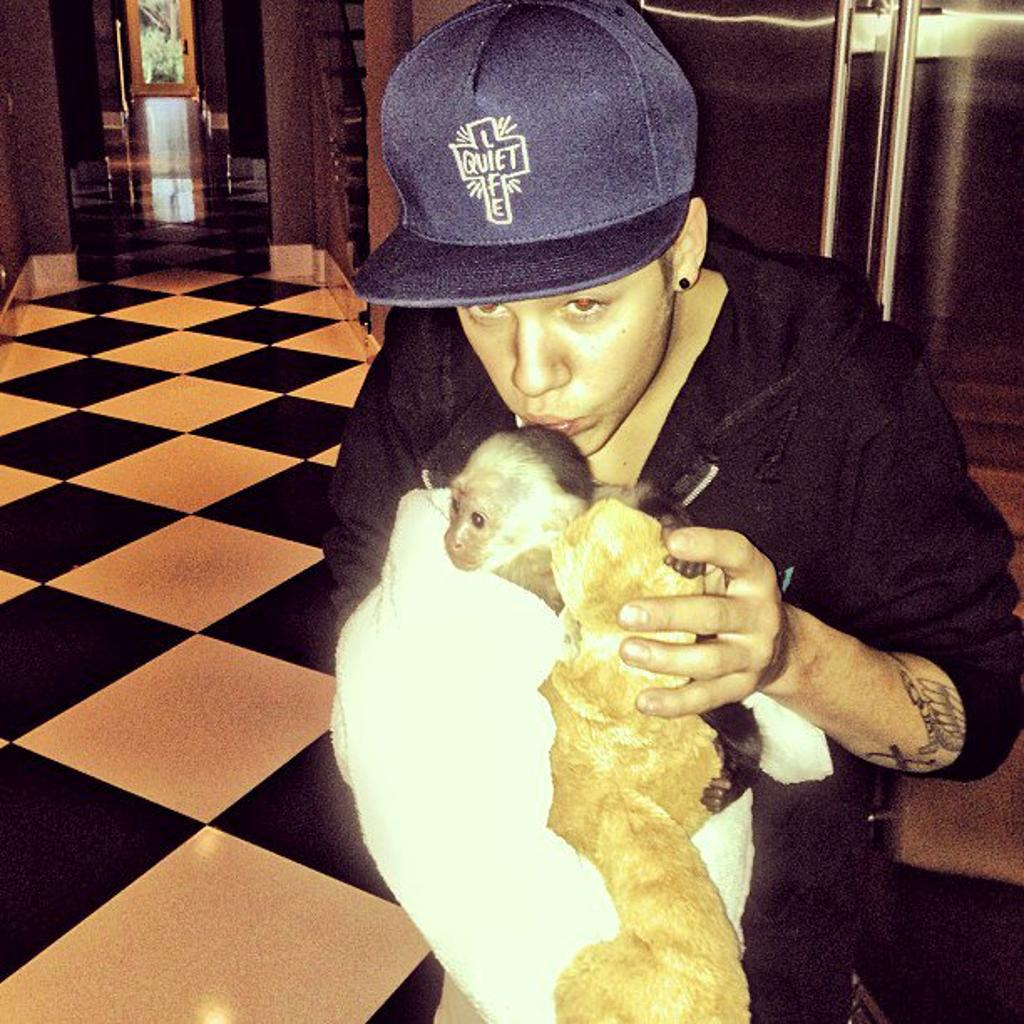face: (457, 245, 669, 455)
